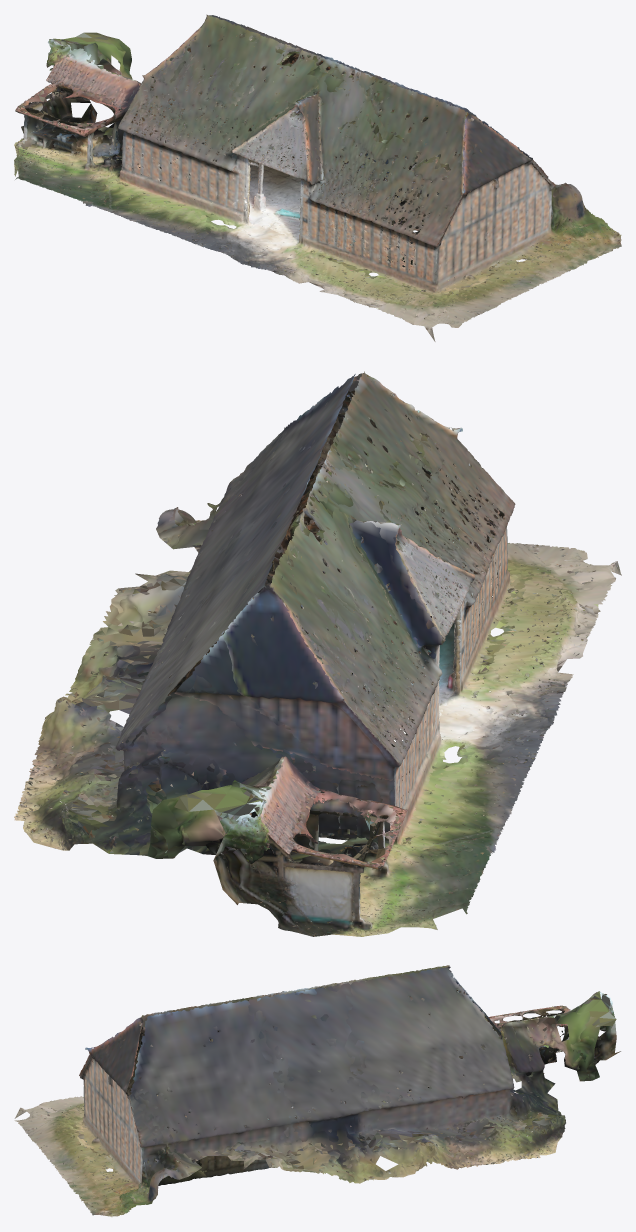
Rendered from vv_establo_interior.glb.
The picture shows the model from 3 angles, top to bottom: view 1: azimuth 30°, elevation 25°; view 2: azimuth 150°, elevation 25°; view 3: azimuth 270°, elevation 25°; orthographic projection. The views are drawn at different scales.
Visible parts, largest first — view 1: Stereo textured mesh; view 2: Stereo textured mesh; view 3: Stereo textured mesh.
Boxes of the visible parts, x1,y1,x2,y2 form: Stereo textured mesh: [14, 14, 621, 341]; Stereo textured mesh: [14, 371, 621, 936]; Stereo textured mesh: [14, 965, 620, 1216].
Bounding box in the file's own units: 721 × 280 × 1000.
Materials: 1 (1 with a texture image).
